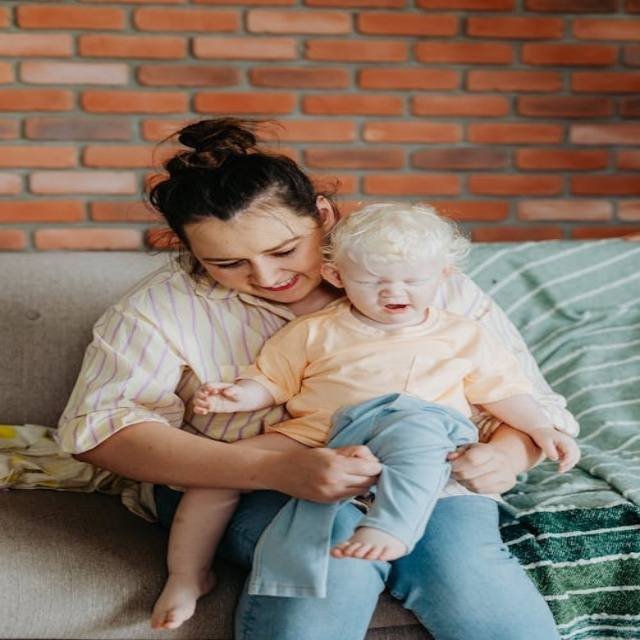Sin_gafas: (201, 225, 310, 271), (344, 266, 442, 292)
Sin_mascara: (238, 273, 312, 305), (371, 300, 420, 322)
